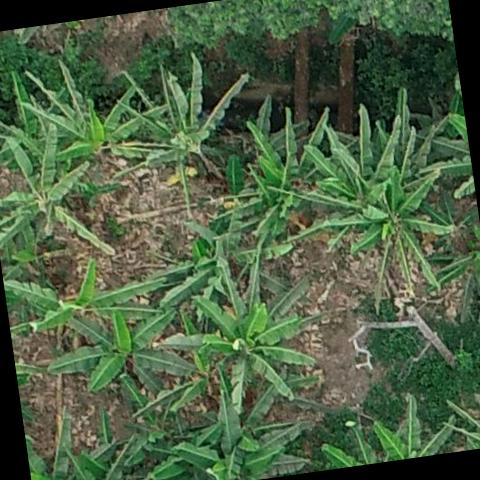Banana-plant: (13, 48, 176, 168), (339, 164, 465, 312), (192, 278, 326, 414), (116, 57, 262, 181), (0, 116, 116, 271), (230, 96, 364, 229), (54, 300, 198, 418), (172, 380, 313, 480), (3, 262, 126, 348)
